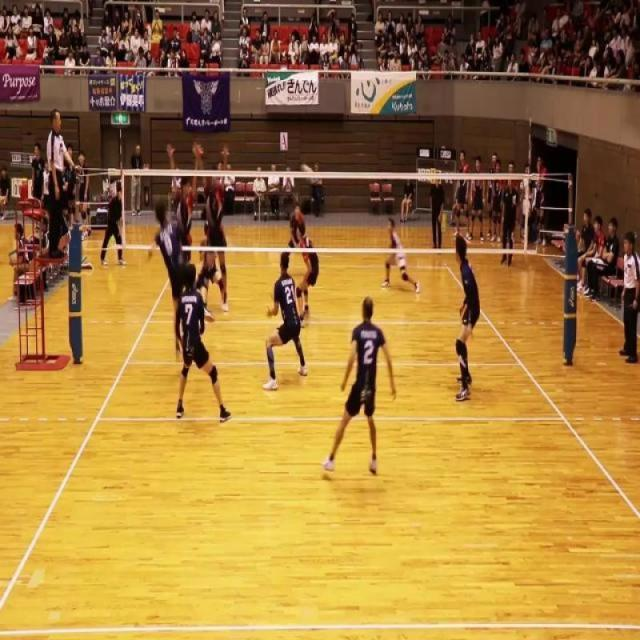volleyball: (301, 163, 315, 180)
